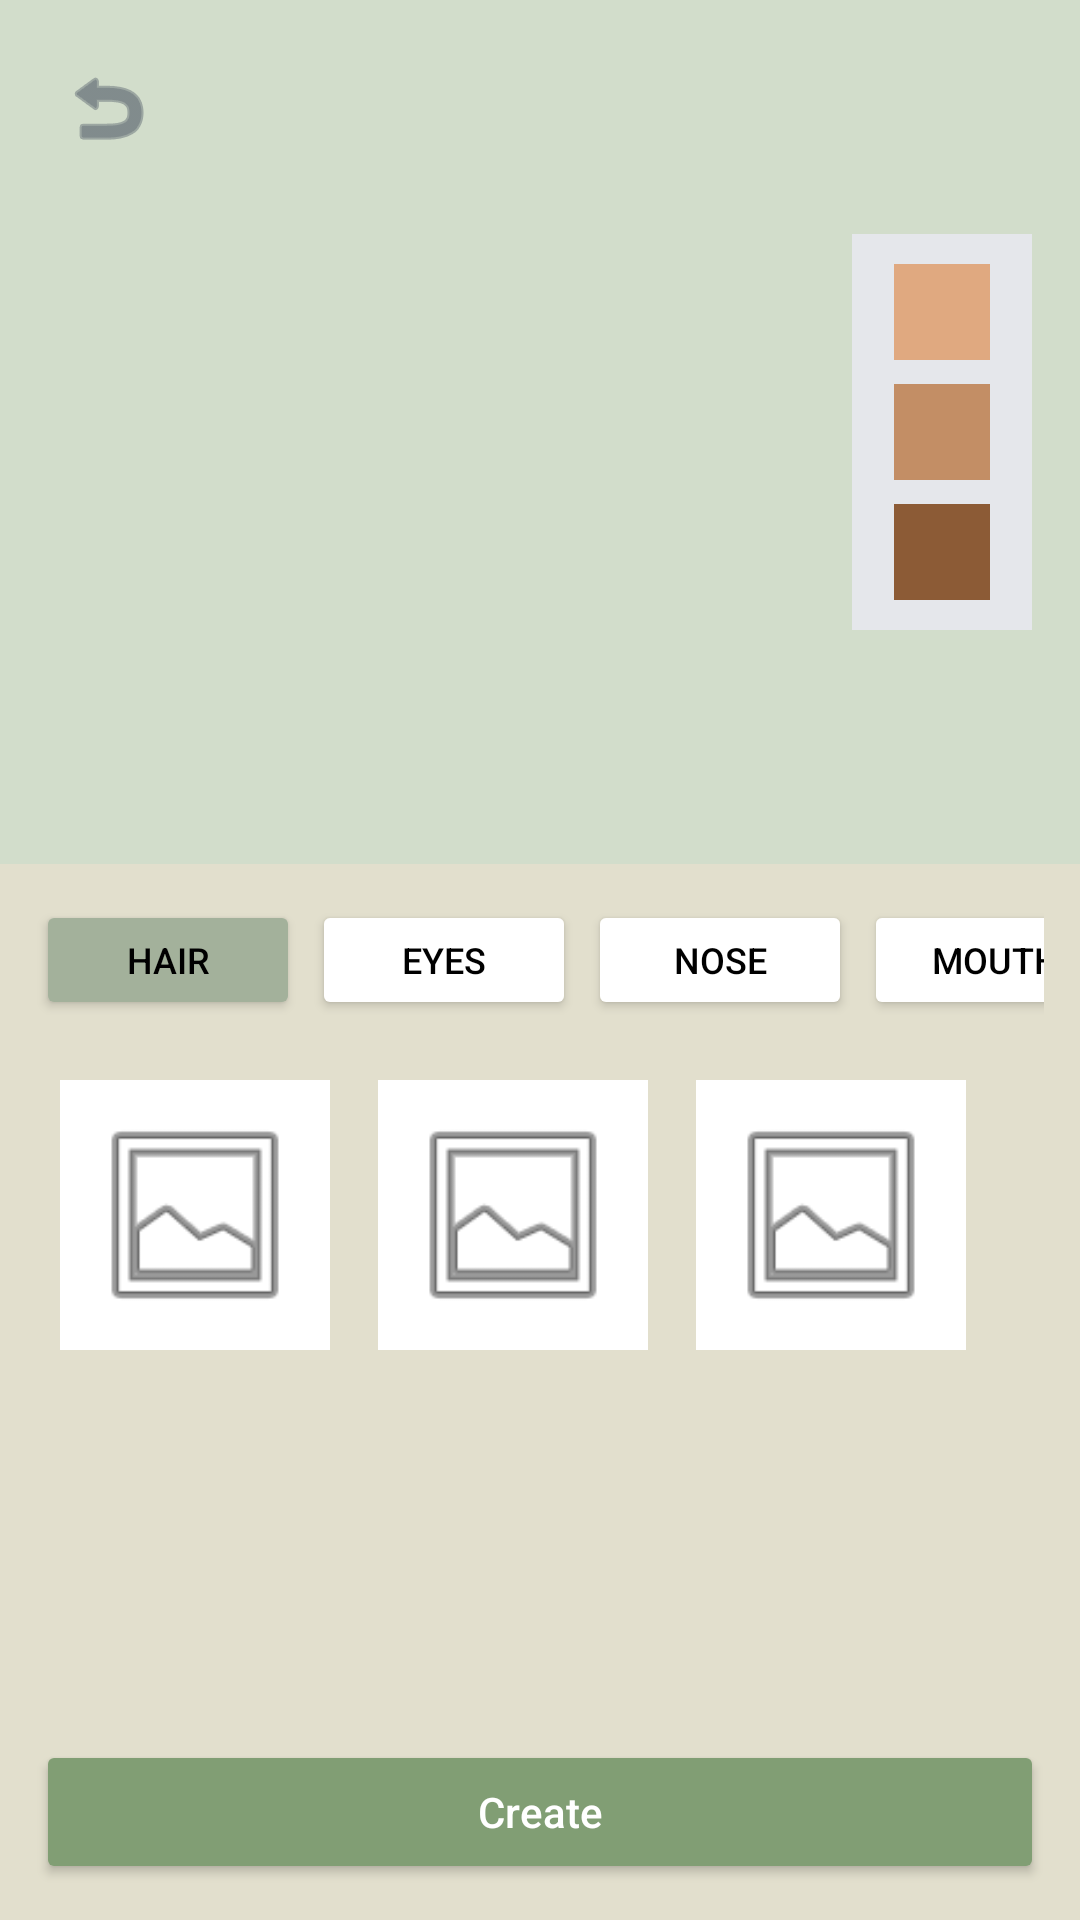

Screen size 1080px×1920px. Icon name, then its box in pixels as (x1, y1, x2, y2):
gallery: (60, 1080, 330, 1350), (378, 1080, 648, 1350), (696, 1080, 966, 1350)
revert: (75, 78, 144, 140)
